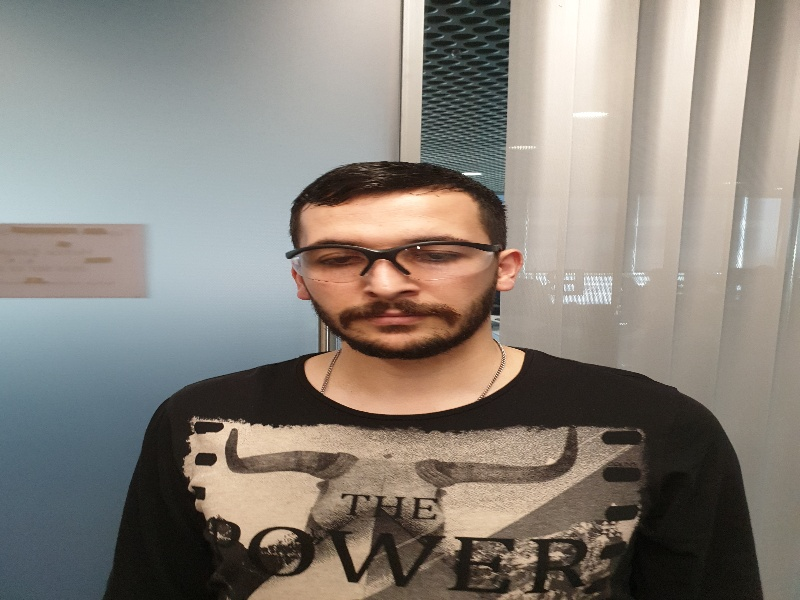Gozluk: (287, 239, 509, 274)
